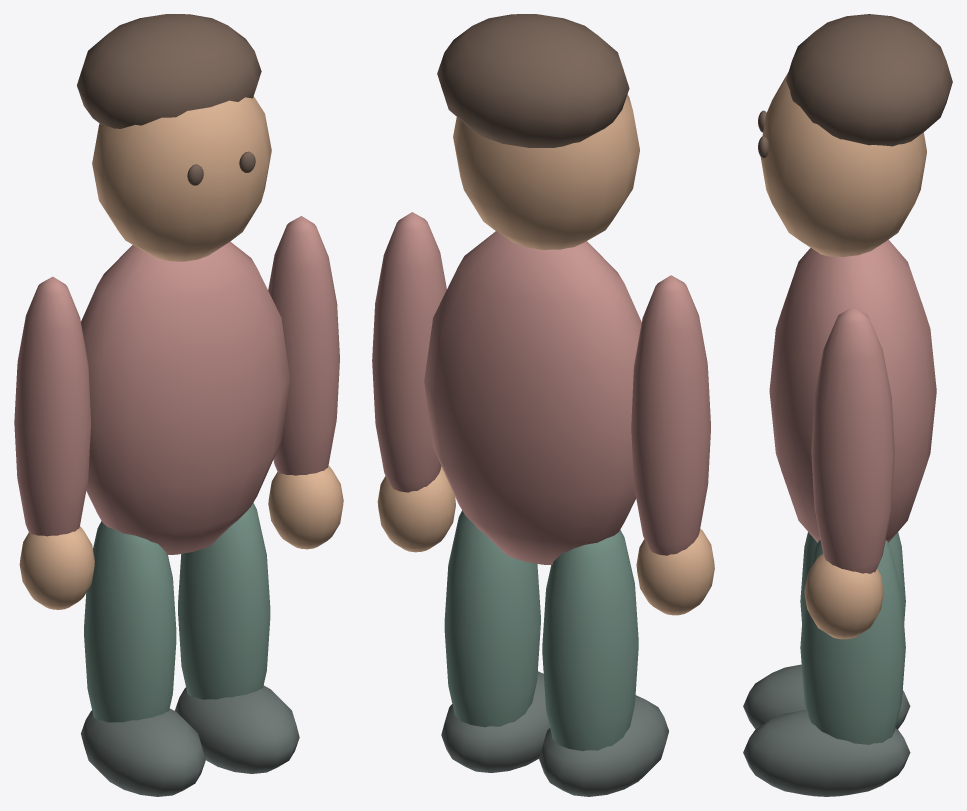
File: Resident.fbx
3 renders of one model, left to right at view 1: azimuth 30°, elevation 25°; view 2: azimuth 150°, elevation 25°; view 3: azimuth 270°, elevation 25°, orthographic. The views are drawn at different scales.
Parts seen in each view (by area): view 1: Body, Leg_L, Leg_R, Head, Arm_L, Arm_R, Hair; view 2: Body, Leg_L, Arm_L, Leg_R, Hair, Arm_R, Head; view 3: Body, Arm_R, Leg_R, Head, Hair, Leg_L.
Boxes of the visible parts, box(x1,y1,x2,y2) form: Body: box(81, 241, 289, 554); Leg_L: box(81, 521, 205, 796); Leg_R: box(174, 503, 299, 773); Head: box(92, 96, 271, 261); Arm_L: box(14, 276, 94, 609); Arm_R: box(268, 216, 343, 549); Hair: box(77, 14, 261, 128); Body: box(424, 231, 641, 564); Leg_L: box(539, 529, 668, 796); Arm_L: box(631, 275, 714, 615); Leg_R: box(441, 510, 549, 772); Hair: box(437, 14, 629, 147); Arm_R: box(372, 212, 455, 552); Head: box(453, 94, 639, 249); Body: box(769, 239, 936, 542); Arm_R: box(804, 306, 894, 639); Leg_R: box(743, 540, 910, 796); Head: box(760, 72, 926, 256); Hair: box(786, 14, 952, 146); Leg_L: box(743, 532, 910, 729).
Bounding box in the file's own units: 57 × 127 × 32.6.
